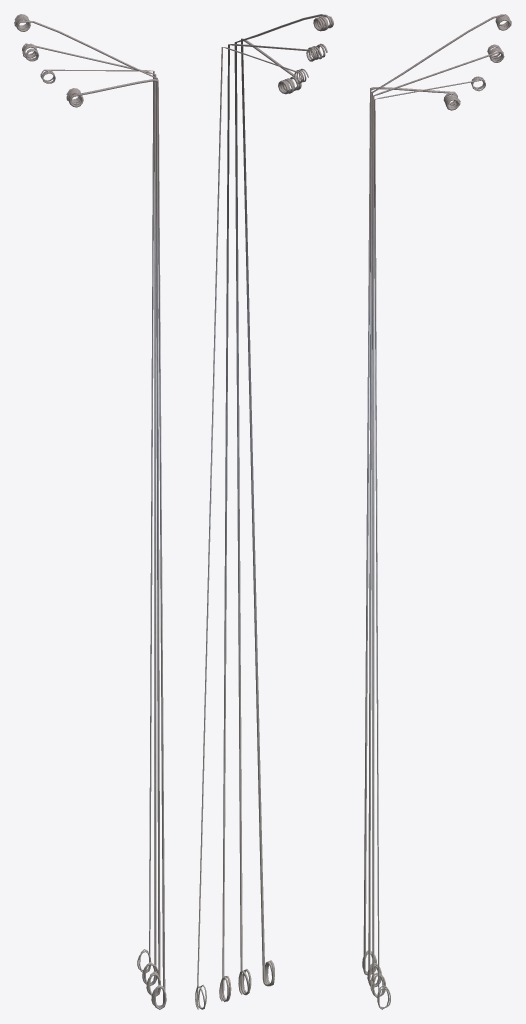
3 views of the same model, side by side, from view 1: azimuth 90°, elevation 25°; view 2: azimuth 210°, elevation 25°; view 3: azimuth 270°, elevation 25° (orthographic). The views are drawn at different scales.
Parts seen in each view (by area): view 1: 中弦, 子弦, 缠弦, 老弦; view 2: 缠弦, 子弦, 中弦, 老弦; view 3: 中弦, 子弦, 缠弦, 老弦.
Part boxes in pixels (x1=…): 中弦: x1=22, y1=43, x2=158, y2=985; 子弦: x1=14, y1=14, x2=160, y2=996; 缠弦: x1=66, y1=79, x2=166, y2=1009; 老弦: x1=40, y1=69, x2=154, y2=972; 缠弦: x1=241, y1=38, x2=301, y2=986; 子弦: x1=234, y1=14, x2=333, y2=995; 中弦: x1=219, y1=43, x2=327, y2=1002; 老弦: x1=195, y1=47, x2=308, y2=1009; 中弦: x1=370, y1=44, x2=504, y2=997; 子弦: x1=367, y1=14, x2=511, y2=987; 缠弦: x1=362, y1=87, x2=460, y2=975; 老弦: x1=374, y1=76, x2=485, y2=1009.
Size of the model in its own units: 59.1 by 704 by 98.77.
4 materials, 4 textured.
